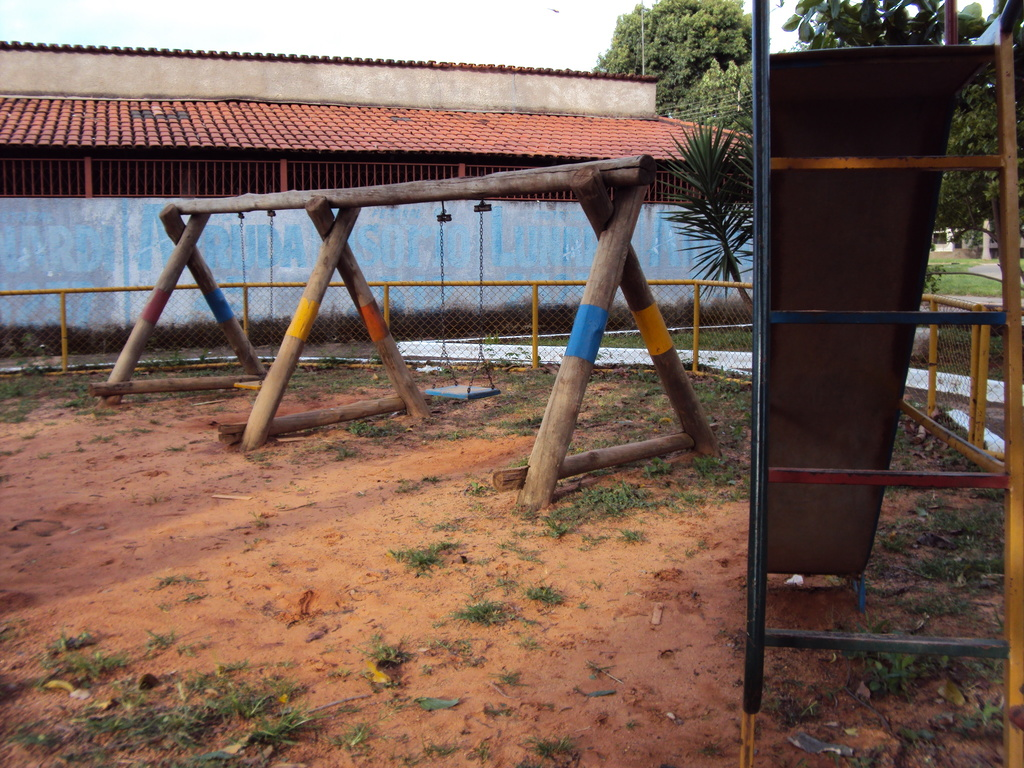Tree: (588, 0, 1023, 264)
